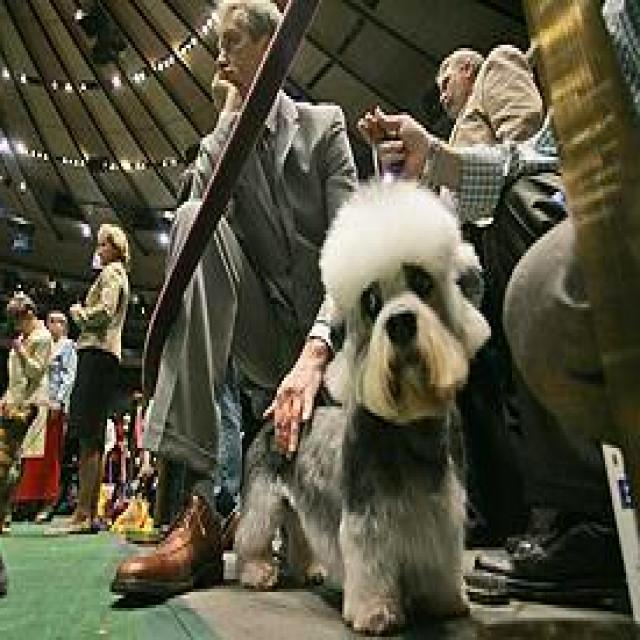dandie_dinmont: (232, 176, 496, 627)
